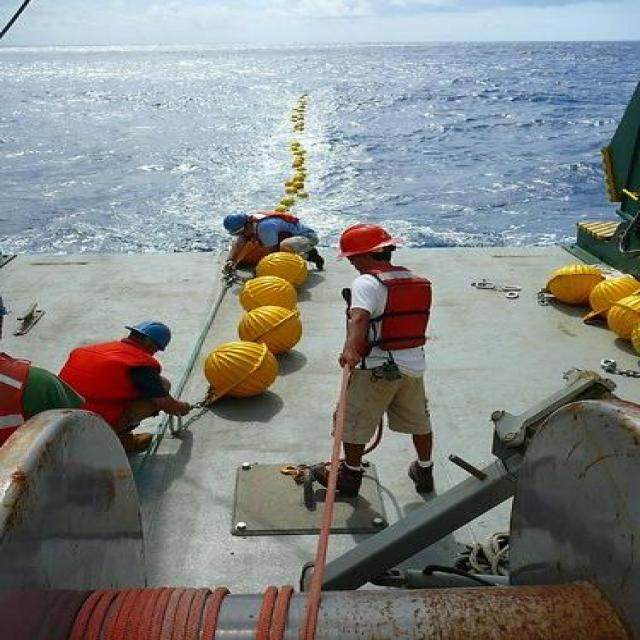Reflective-Jacket: (342, 266, 441, 357), (51, 338, 157, 410), (1, 349, 41, 436)
Safety-Helmet: (333, 219, 404, 260), (120, 315, 179, 354)
